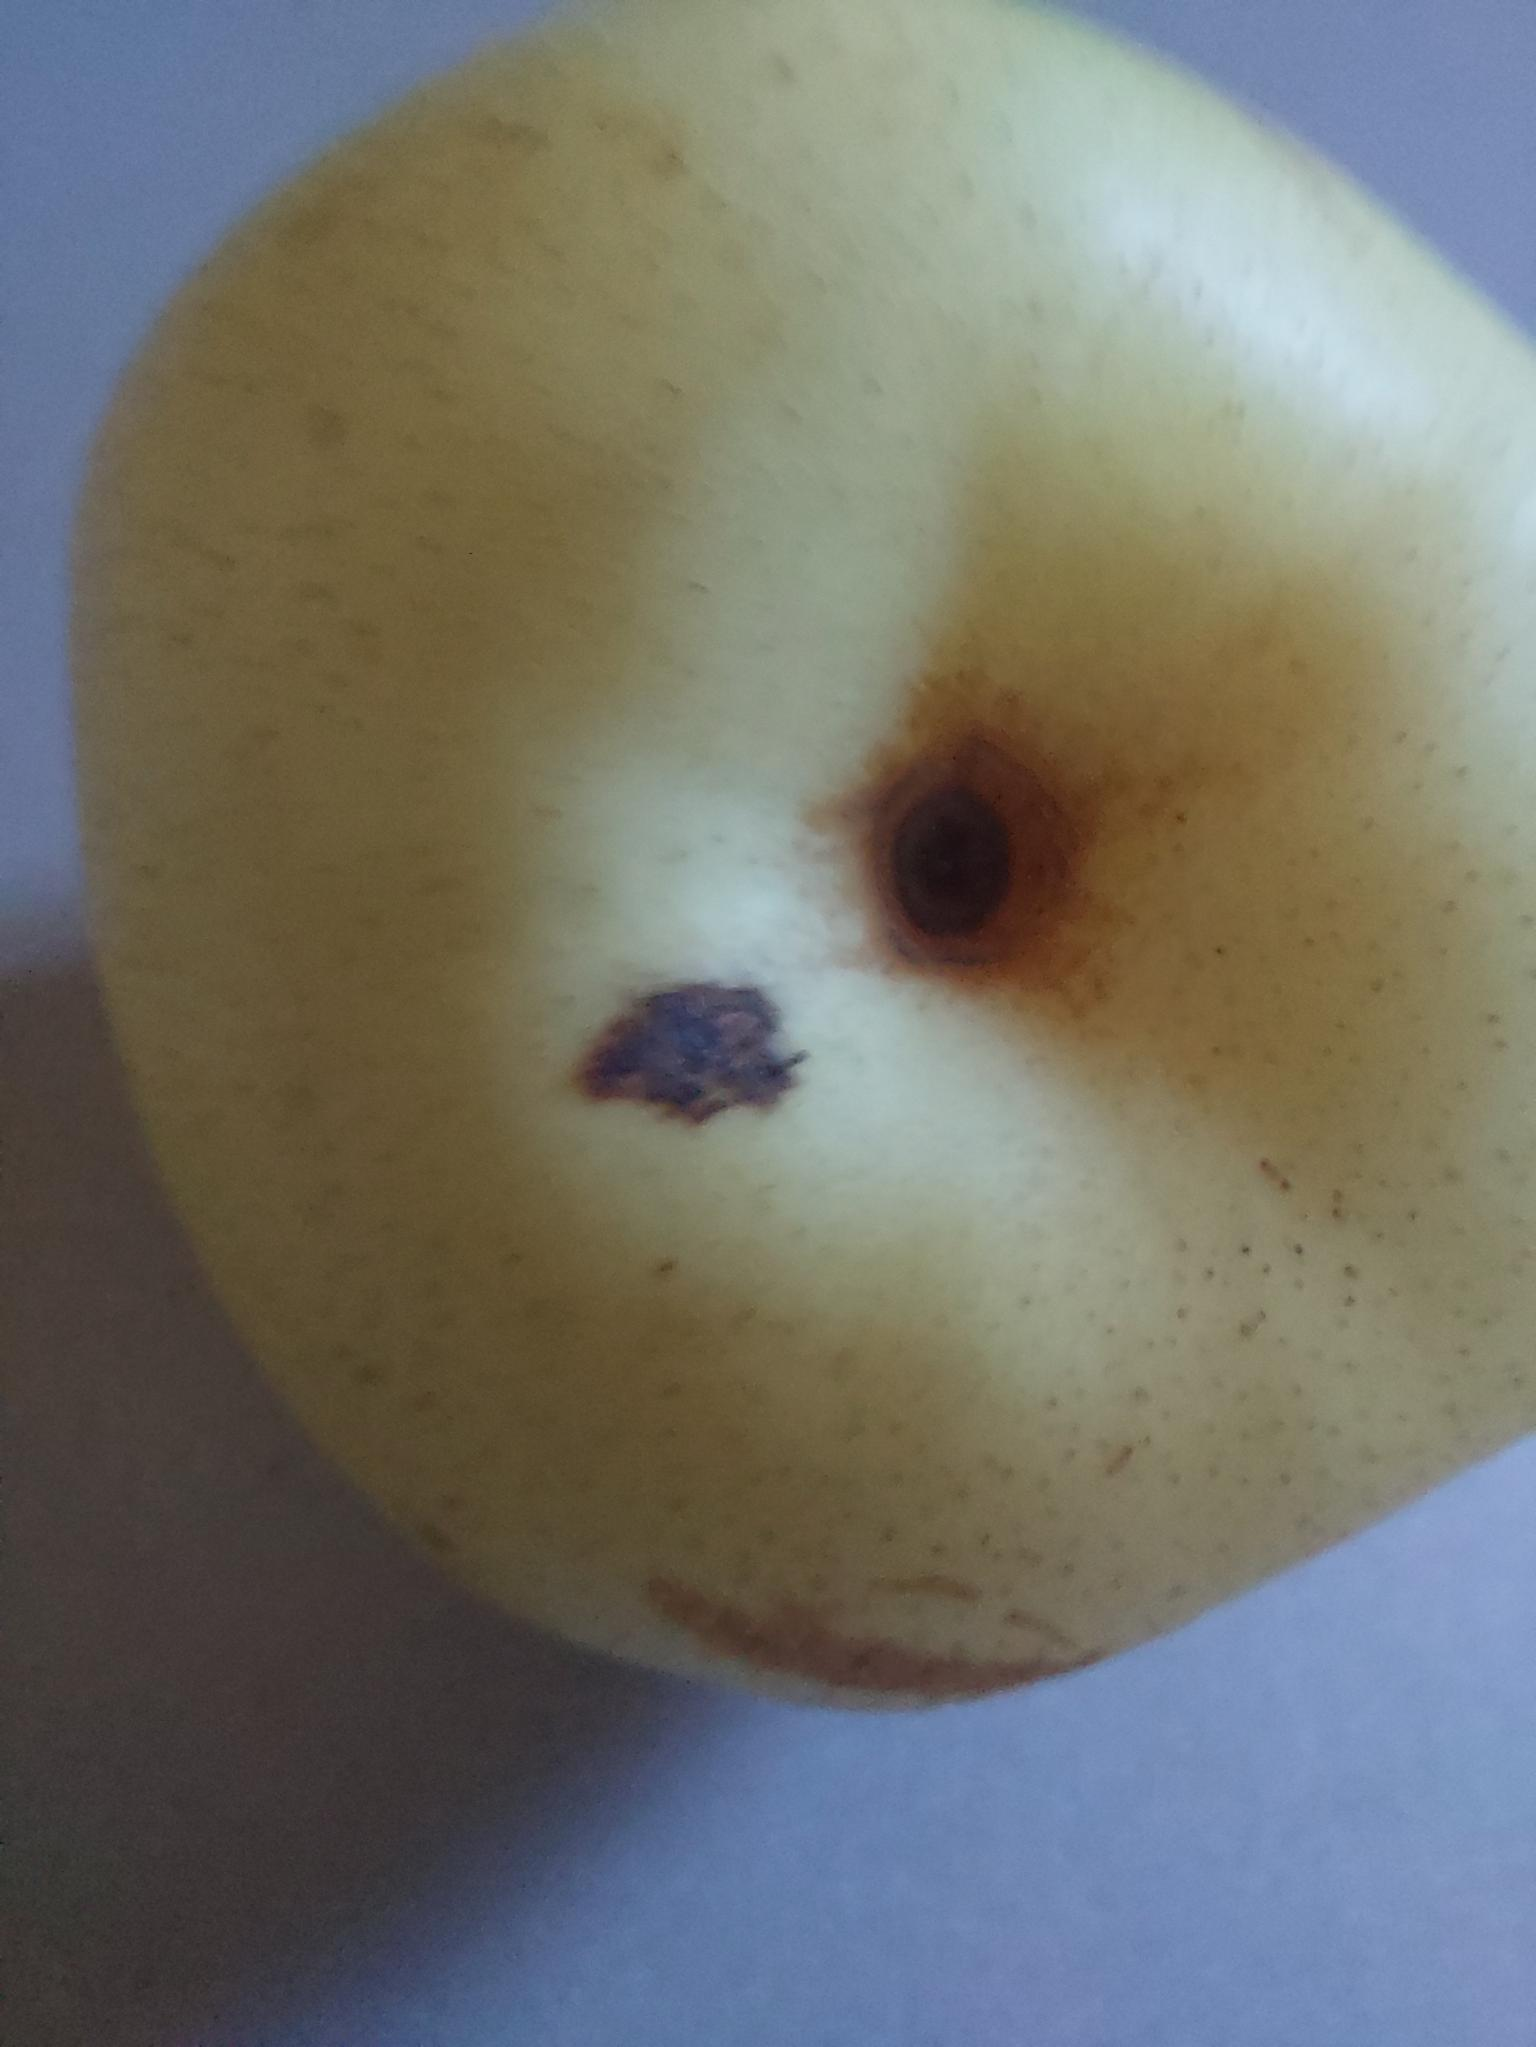Good Pear: (0, 0, 1536, 1766)
